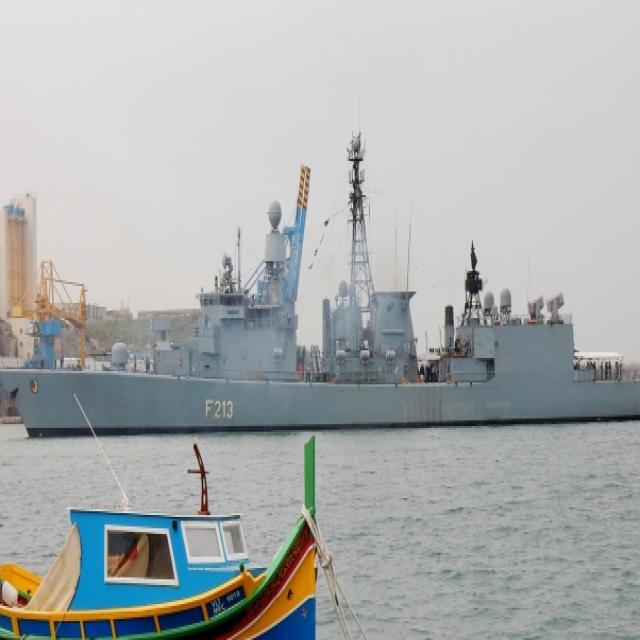Fragata: (1, 126, 640, 463)
